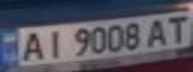0: (106, 21, 127, 53), (90, 24, 109, 55)
8: (121, 19, 148, 51)
9: (69, 25, 93, 57)
A: (15, 29, 48, 62), (142, 16, 175, 47)
I: (39, 27, 69, 60)
T: (160, 12, 193, 44)
